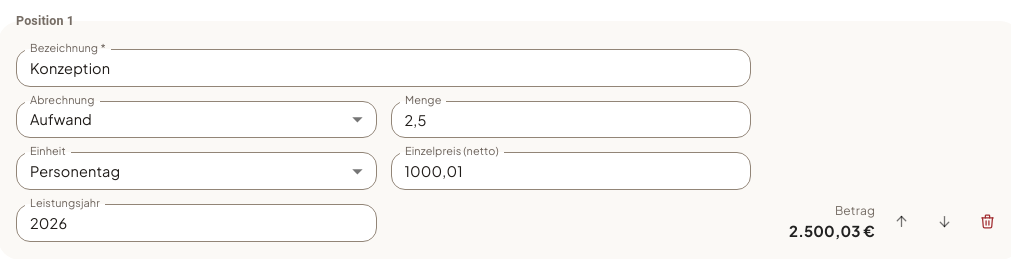
Test: Positionsmaske — die Einheit zum Modus (Kriterium 4, F7) › belegt die Einheit mit „Pauschal", wenn auf Festpreis gewechselt wird
Select "Festpreis" in the dropdown labelled "Abrechnung" at (196, 120), box [16,101,376,138]
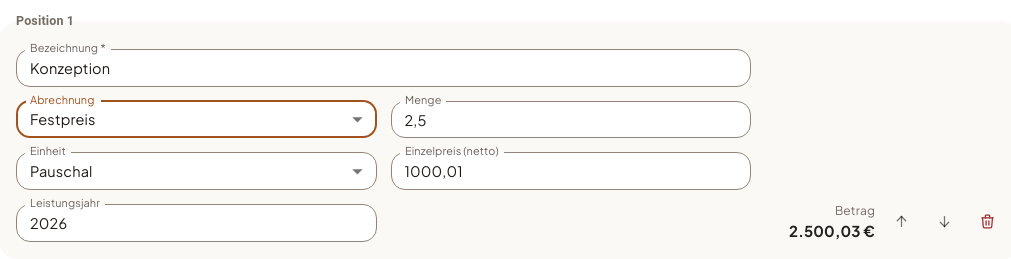
expect the dropdown labelled "Einheit" shows "Pauschal": met, box [16,152,376,190]
